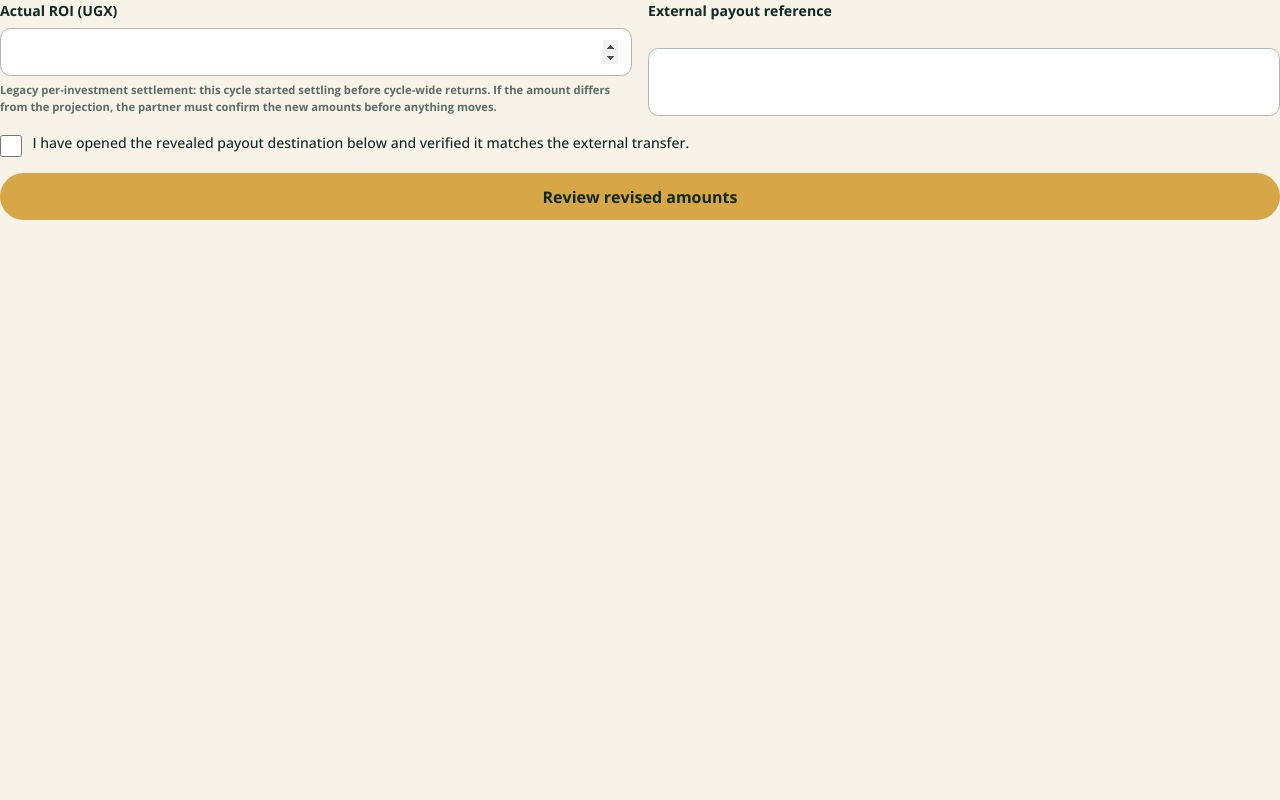
Test: maturity completion review › shows the proportional custom split for a legacy ROI entry
This screenshot has width=1280, height=800.
Type "200000" into the number field labelled "Actual ROI (UGX)".
click(316, 52); type("200000")  # box x1=0 y1=28 x2=632 y2=76
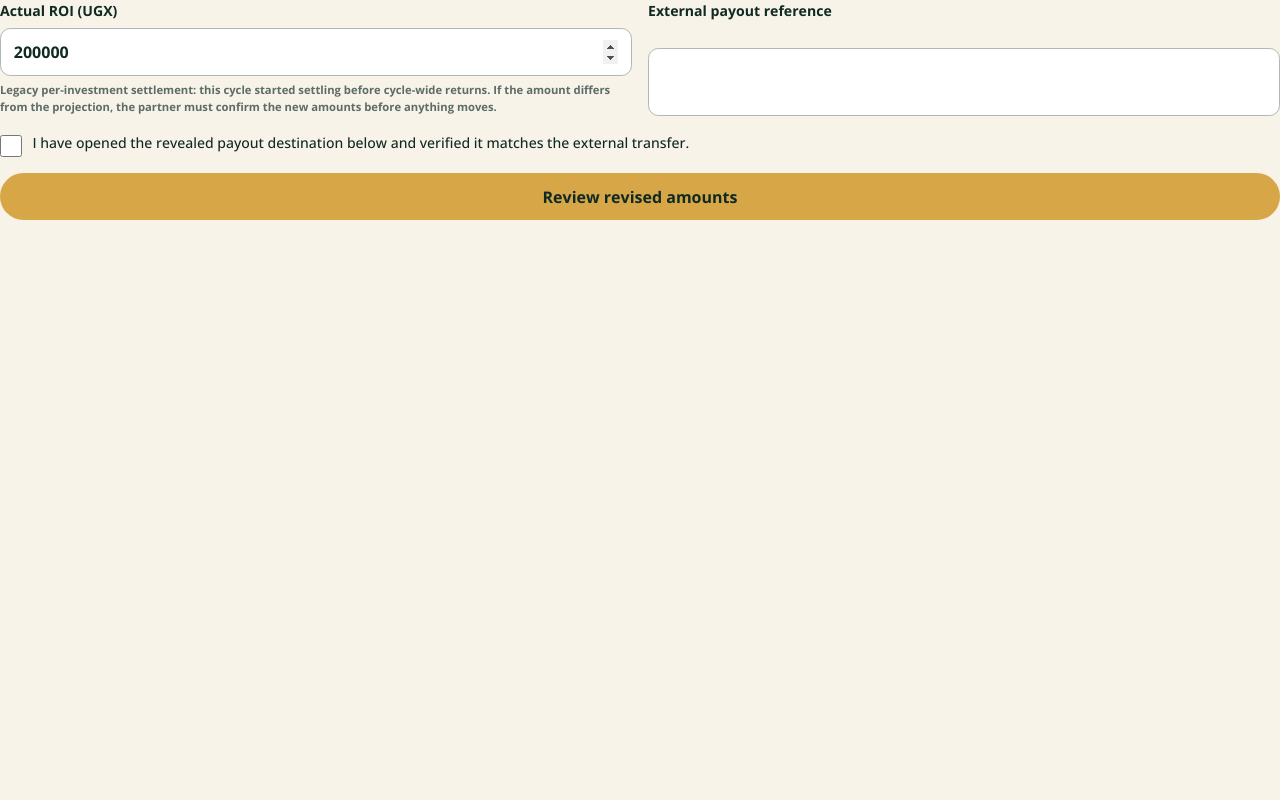
Type "TRANSFER-123" into the field labelled "External payout reference".
click(964, 82); type("TRANSFER-123")  # box x1=648 y1=48 x2=1279 y2=116
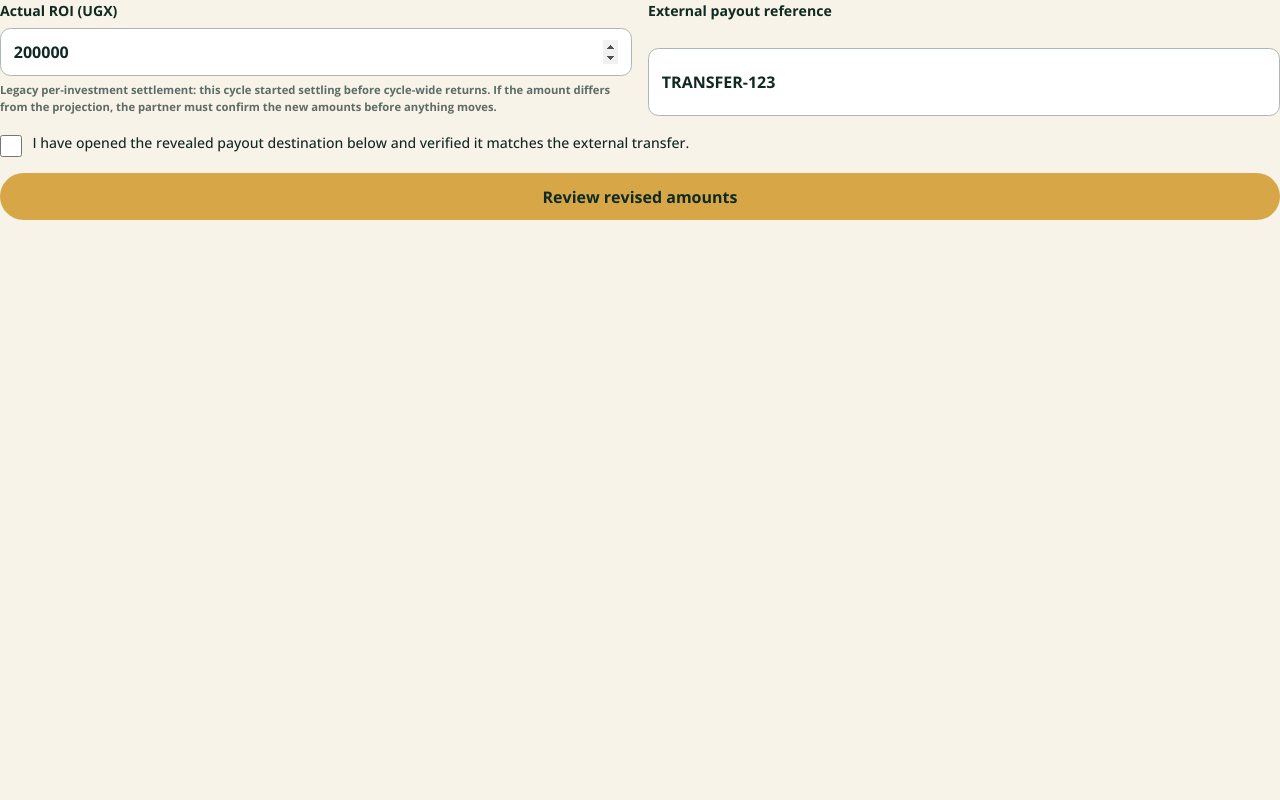
Click the checkbox.
click(11, 146)  # box x1=0 y1=135 x2=22 y2=157
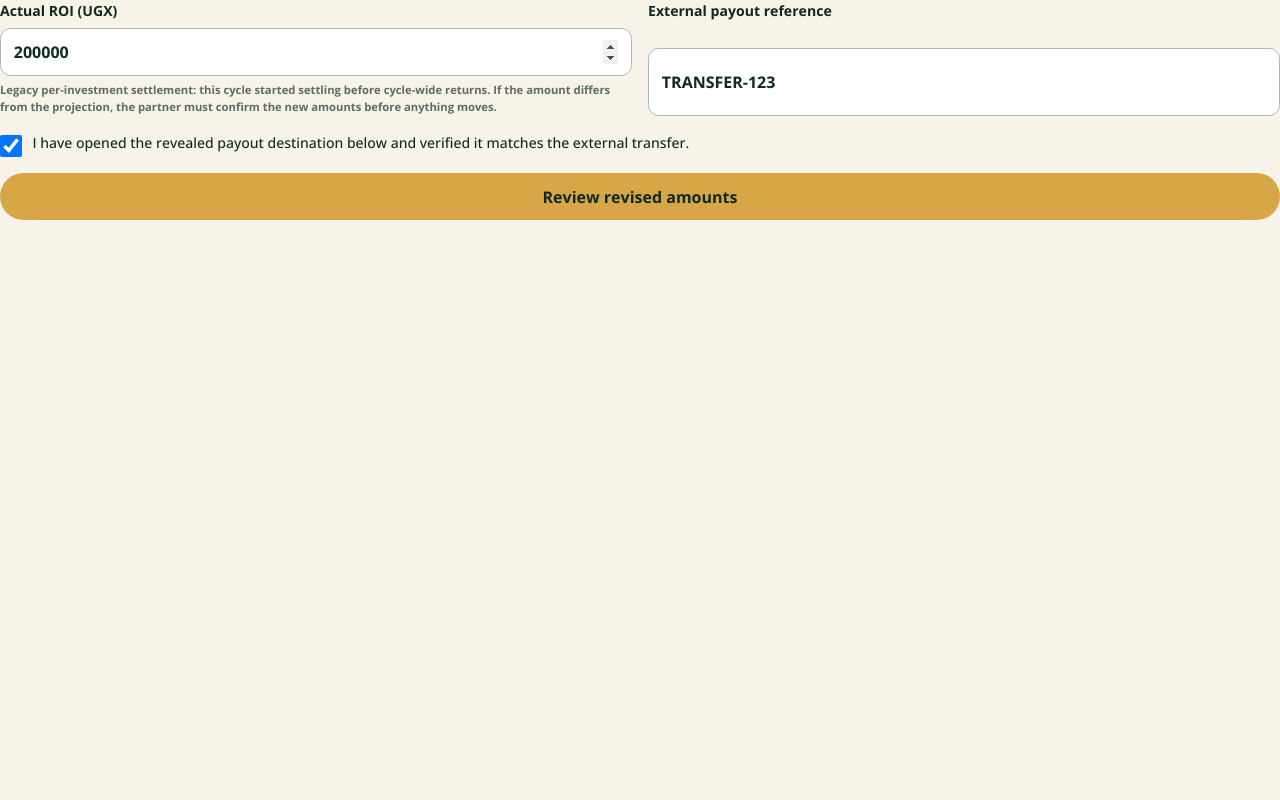
Click the button "Review revised amounts".
click(640, 197)  # box x1=0 y1=173 x2=1279 y2=220
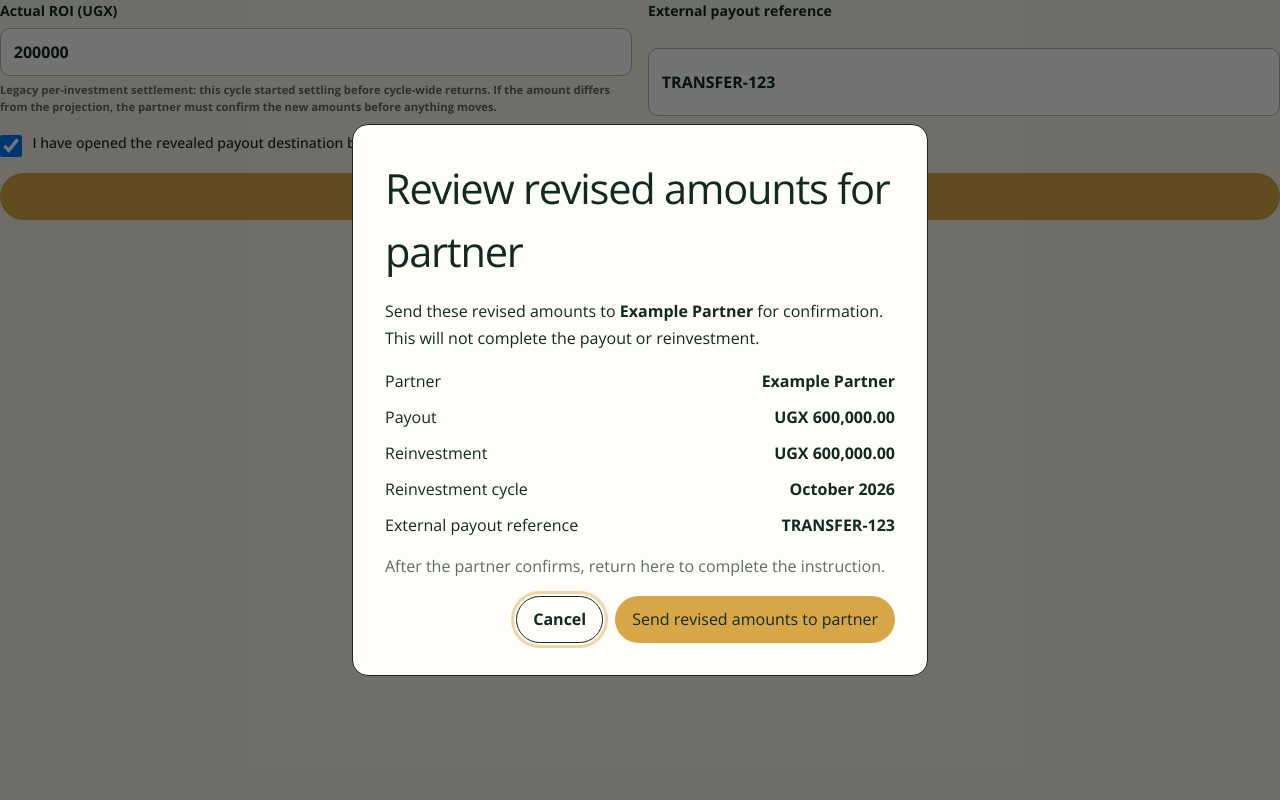
Check: the text "UGX 600,000.00" is shown 2 times, box x1=774 y1=405 x2=895 y2=429; x1=774 y1=441 x2=895 y2=465
Check: the text "October 2026" is shown, box x1=790 y1=477 x2=895 y2=501
